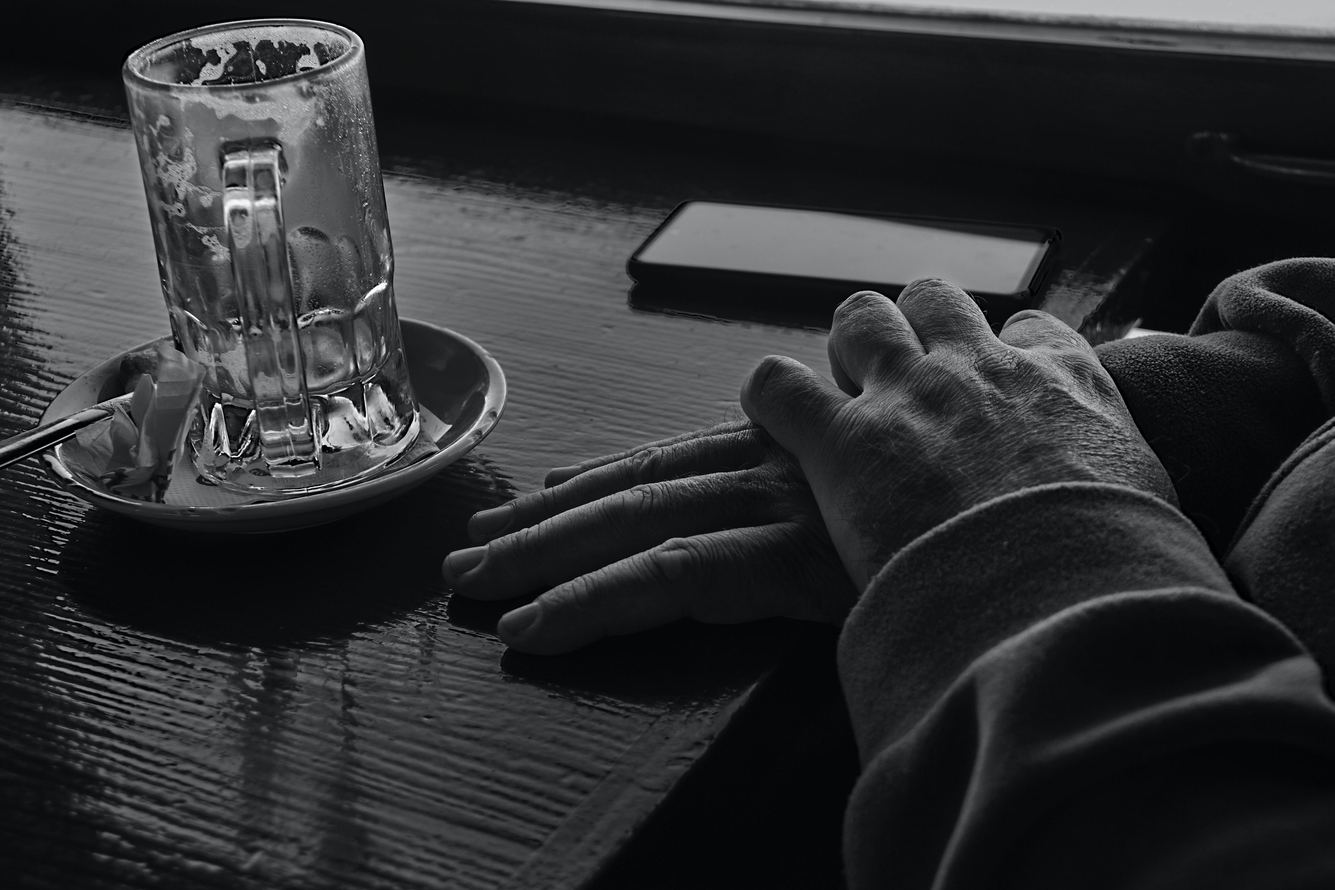glass-mug: (122, 14, 425, 500)
